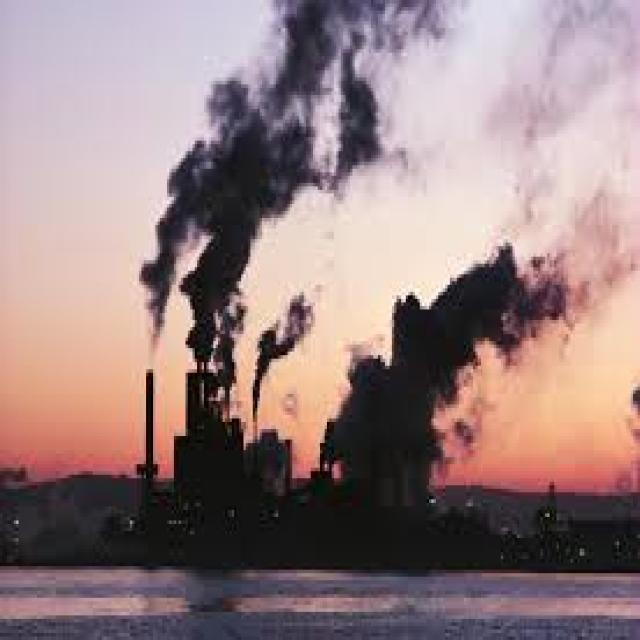Smoke: (160, 3, 406, 380)
